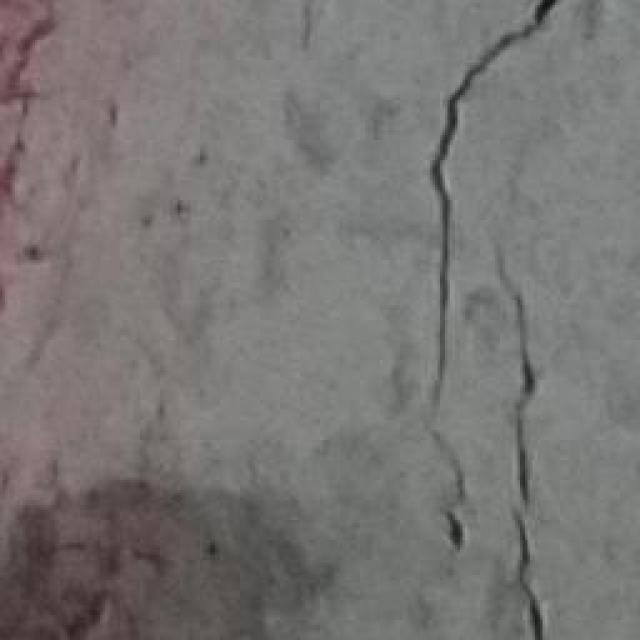Longitudinal: (417, 6, 593, 638)
